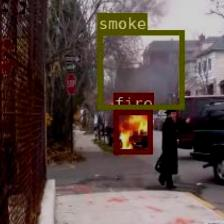fire: (113, 109, 152, 153)
smoke: (96, 29, 184, 109)
